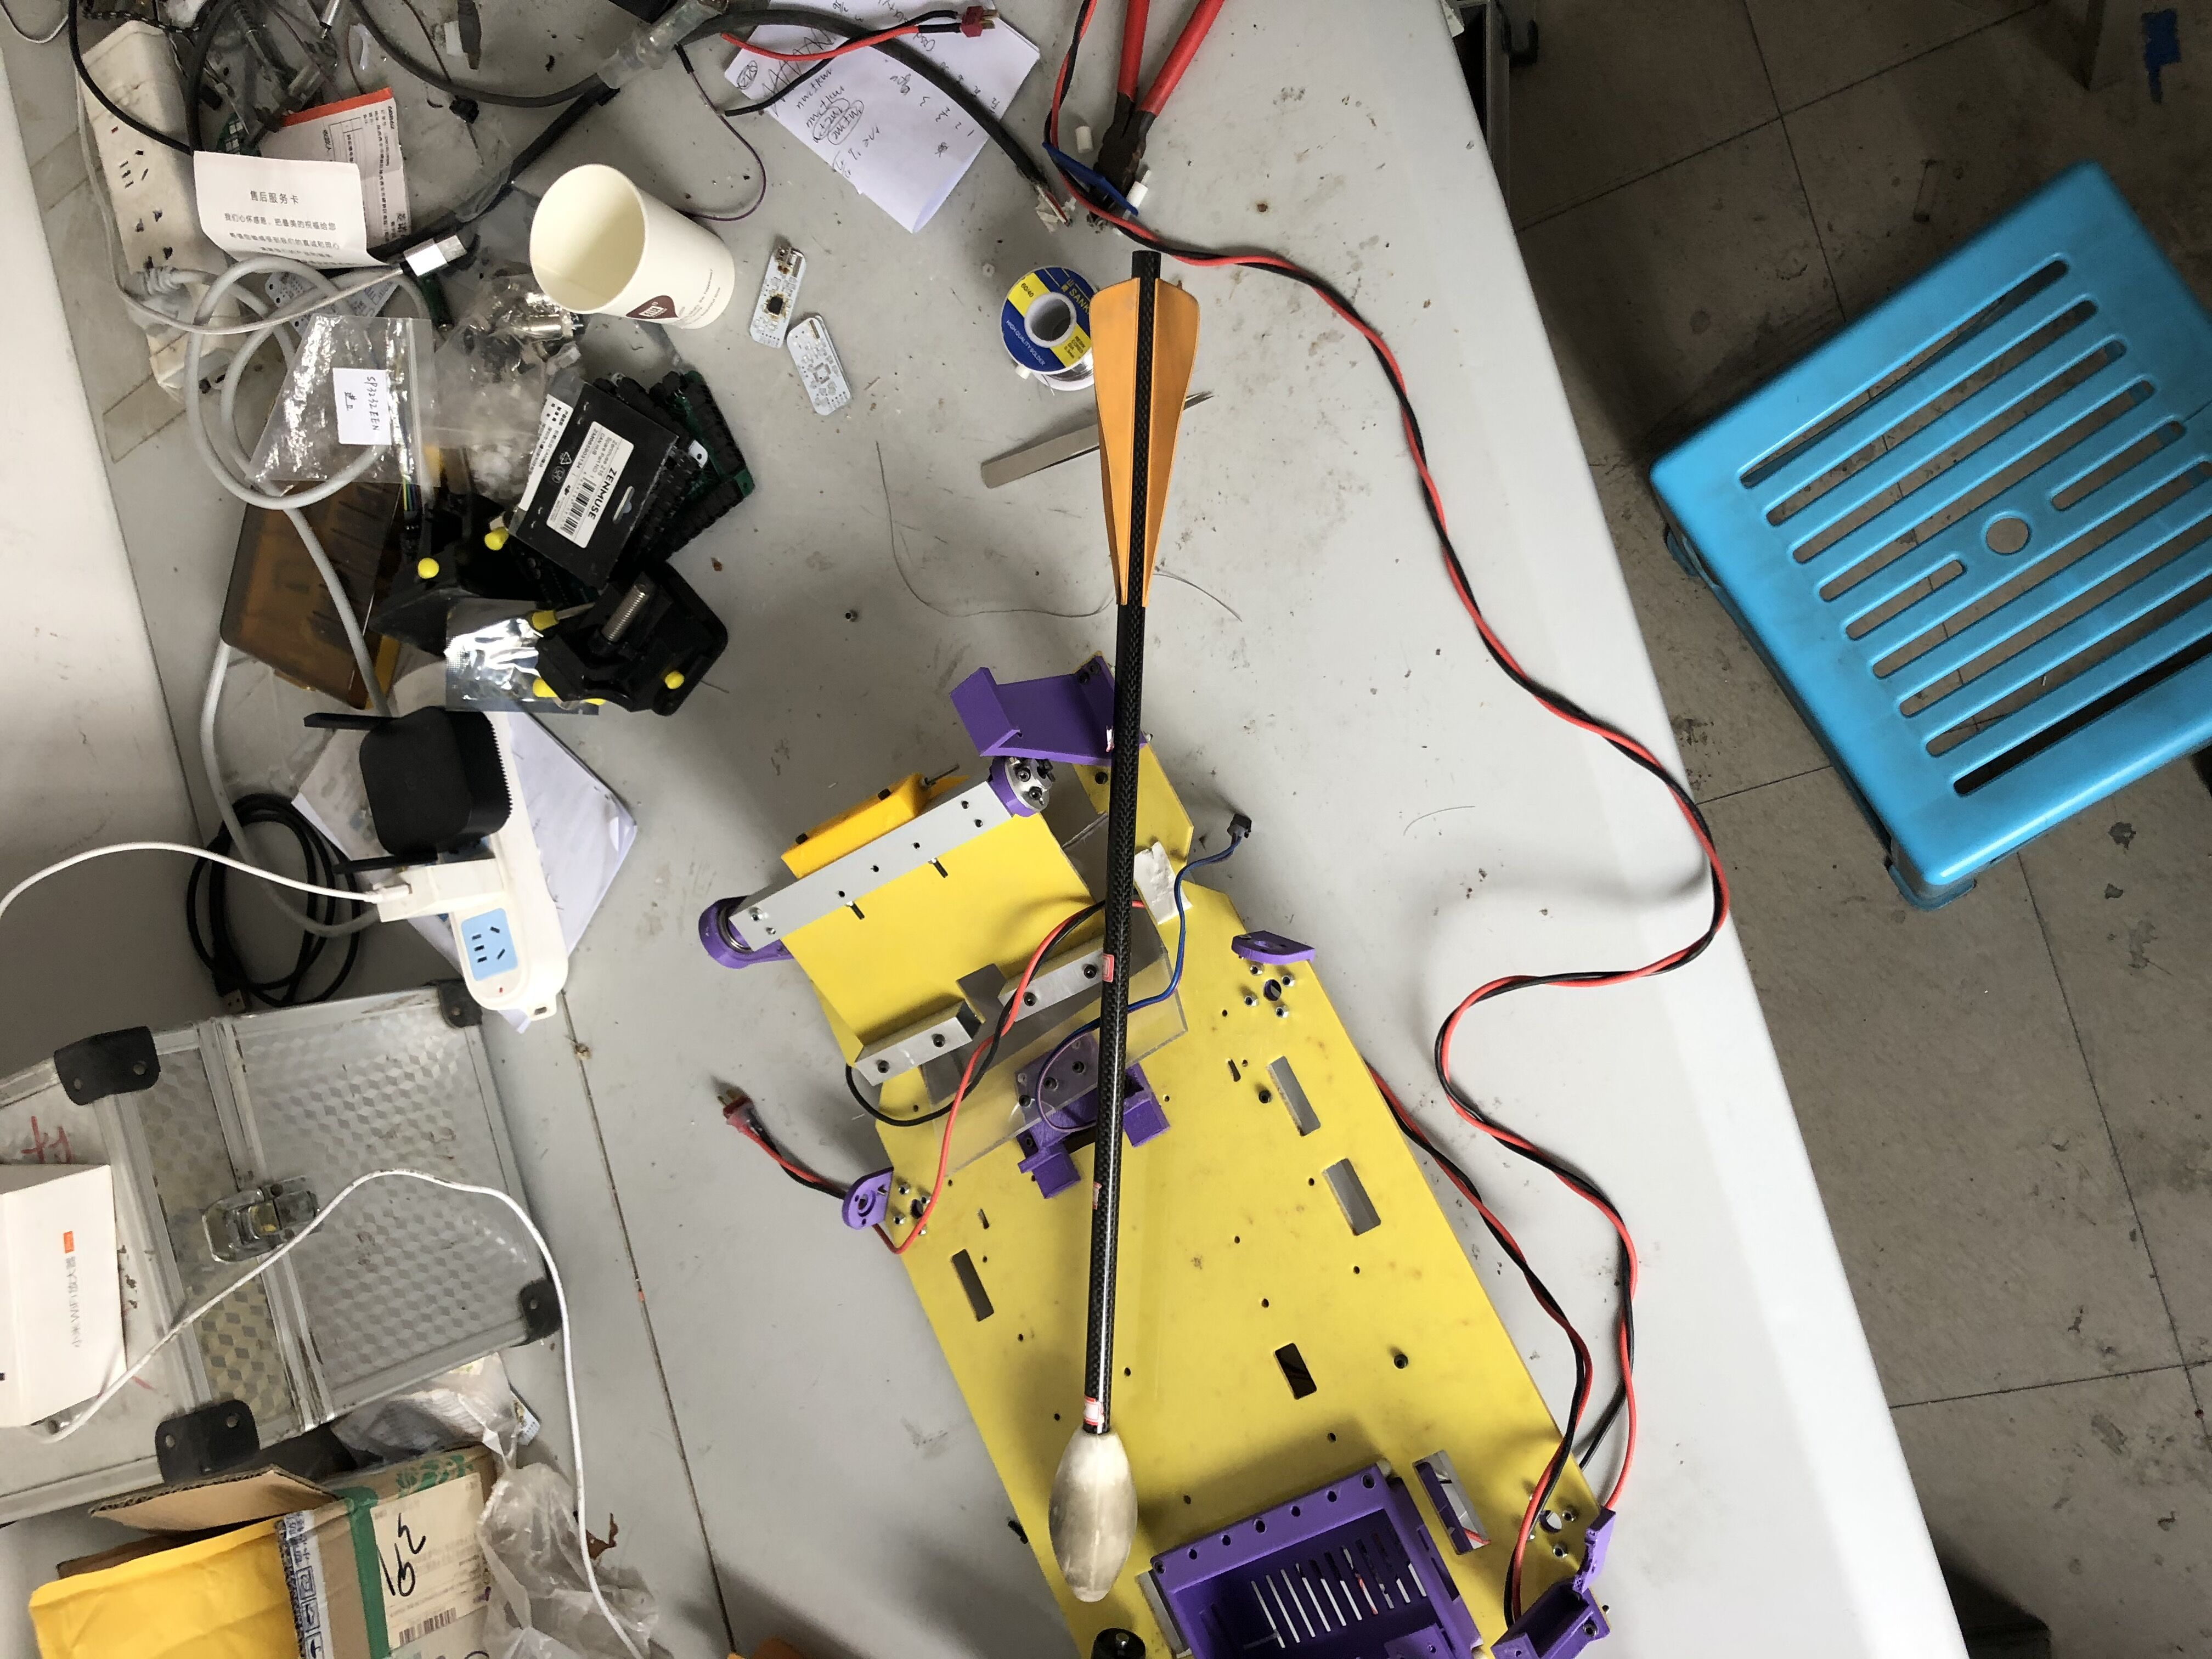arrow: (1045, 247, 1205, 1608)
arrowFront: (1049, 1427, 1141, 1612)
